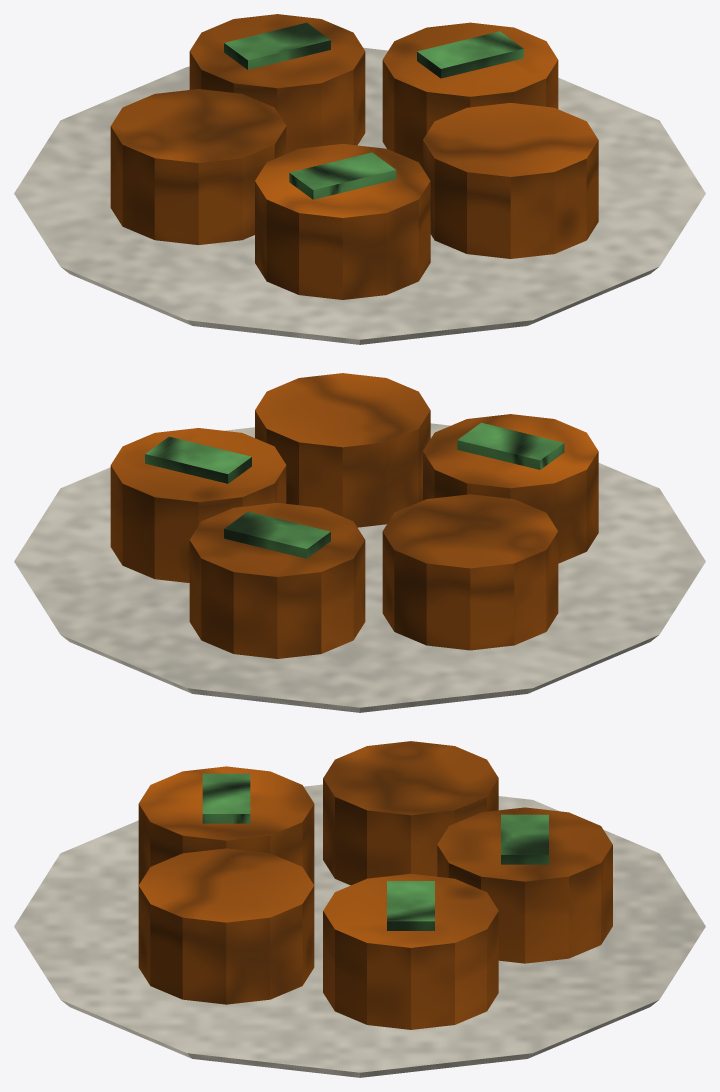
The model's file is cny_fruit_plate.fbx.
The picture shows the model from 3 angles, top to bottom: view 1: azimuth 30°, elevation 25°; view 2: azimuth 150°, elevation 25°; view 3: azimuth 270°, elevation 25°; orthographic projection.
Parts seen in each view (by area): view 1: cny_fruit_plate; view 2: cny_fruit_plate; view 3: cny_fruit_plate.
Part boxes in pixels (<box>): cny_fruit_plate: <box>14,14,705,344</box>; cny_fruit_plate: <box>14,373,705,712</box>; cny_fruit_plate: <box>14,741,705,1077</box>.
Bounding box in the file's own units: 26 × 6.8 × 26.
